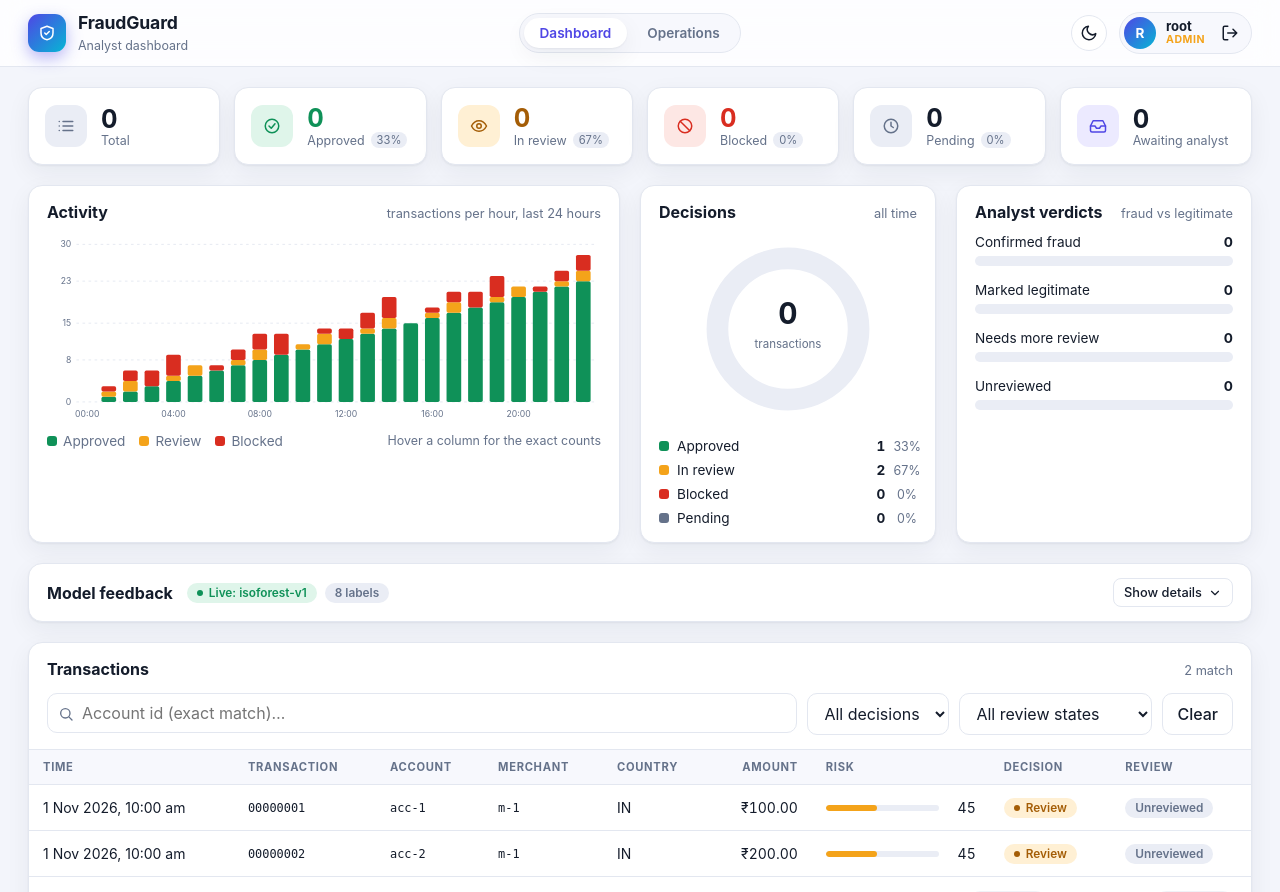
Test case: dead-letter topic › explains when the topic cannot be read (Kafka down)
The width and height of the screenshot is (1280, 892).
Click the button "Operations" at (683, 33), box [631,18,736,48]
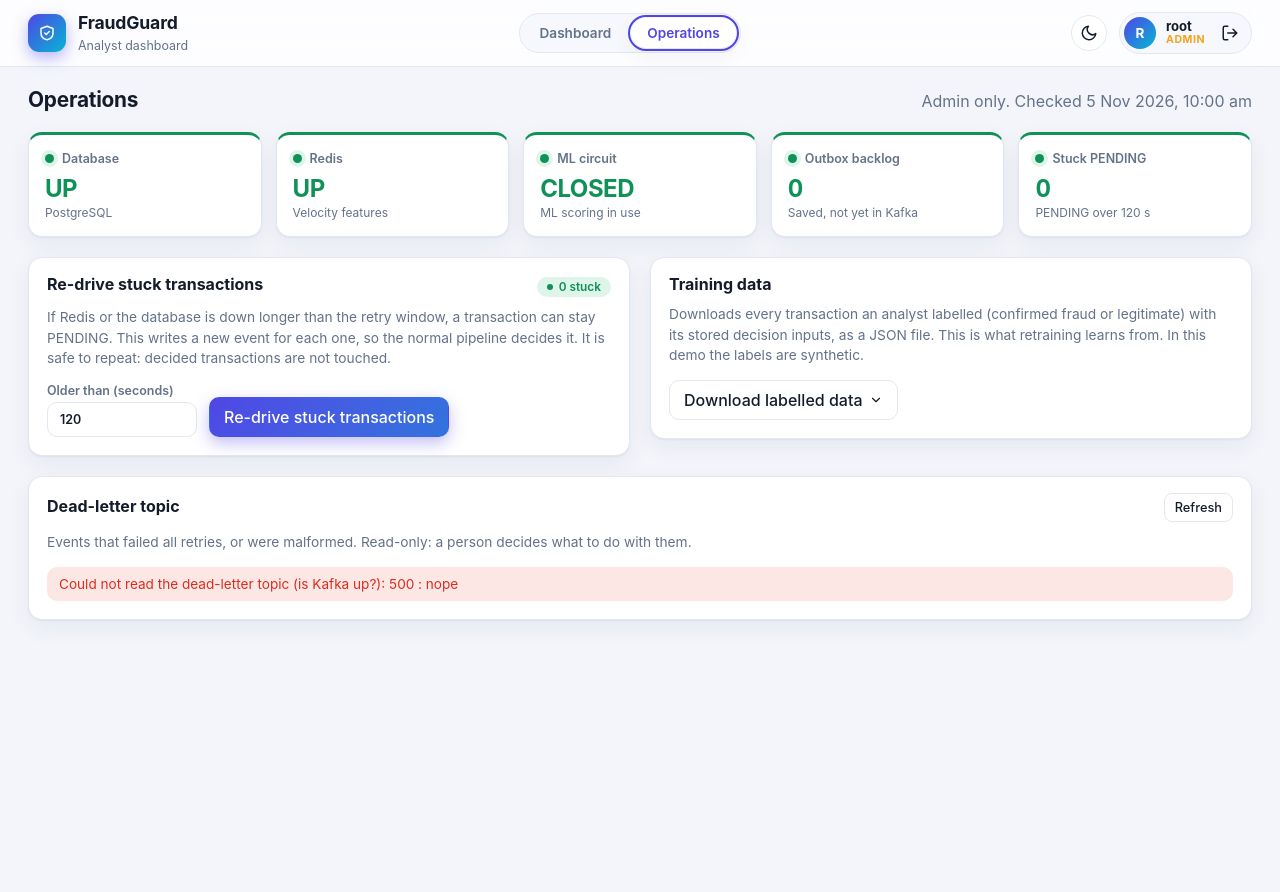
Now the text "is Kafka up?" is shown, box [59,576,389,592]
